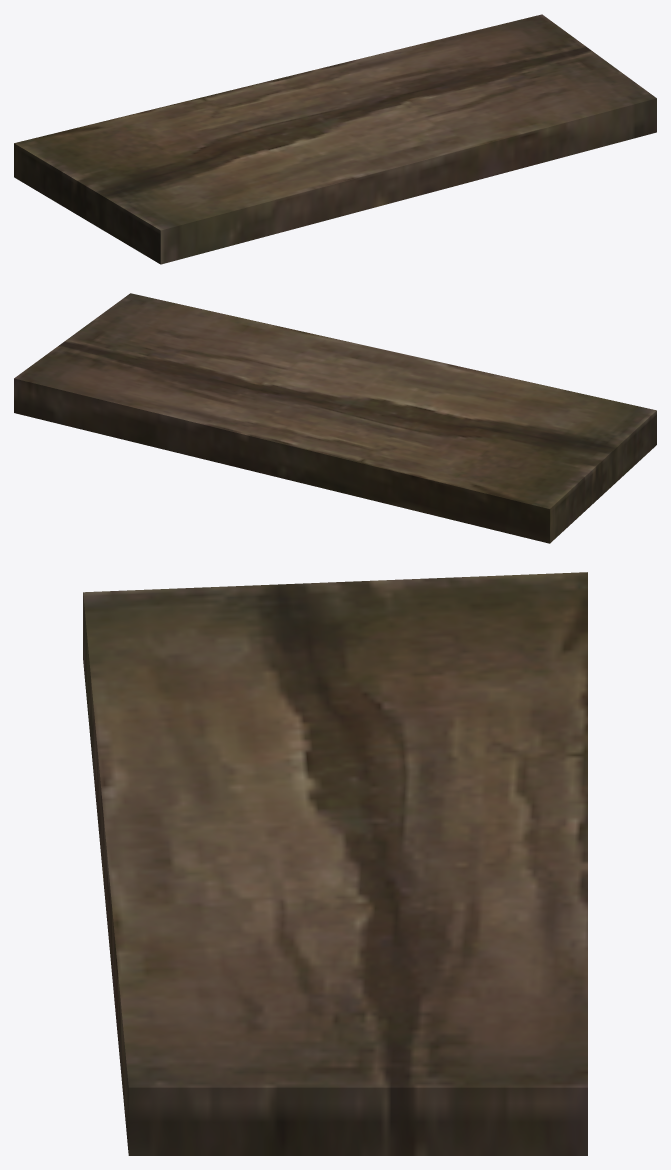
File: common_yewai_muban01.FBX
3 renders of one model, top to bottom at view 1: azimuth 30°, elevation 25°; view 2: azimuth 150°, elevation 25°; view 3: azimuth 270°, elevation 25°, orthographic. The views are drawn at different scales.
Parts seen in each view (by area): view 1: common_yewai_muban01; view 2: common_yewai_muban01; view 3: common_yewai_muban01.
Part boxes in pixels (x1,y1,x2,y2): common_yewai_muban01: [14, 14, 656, 264]; common_yewai_muban01: [14, 293, 656, 543]; common_yewai_muban01: [83, 572, 587, 1155].
Bounding box in the file's own units: 2.64 × 0.163 × 1.09.
